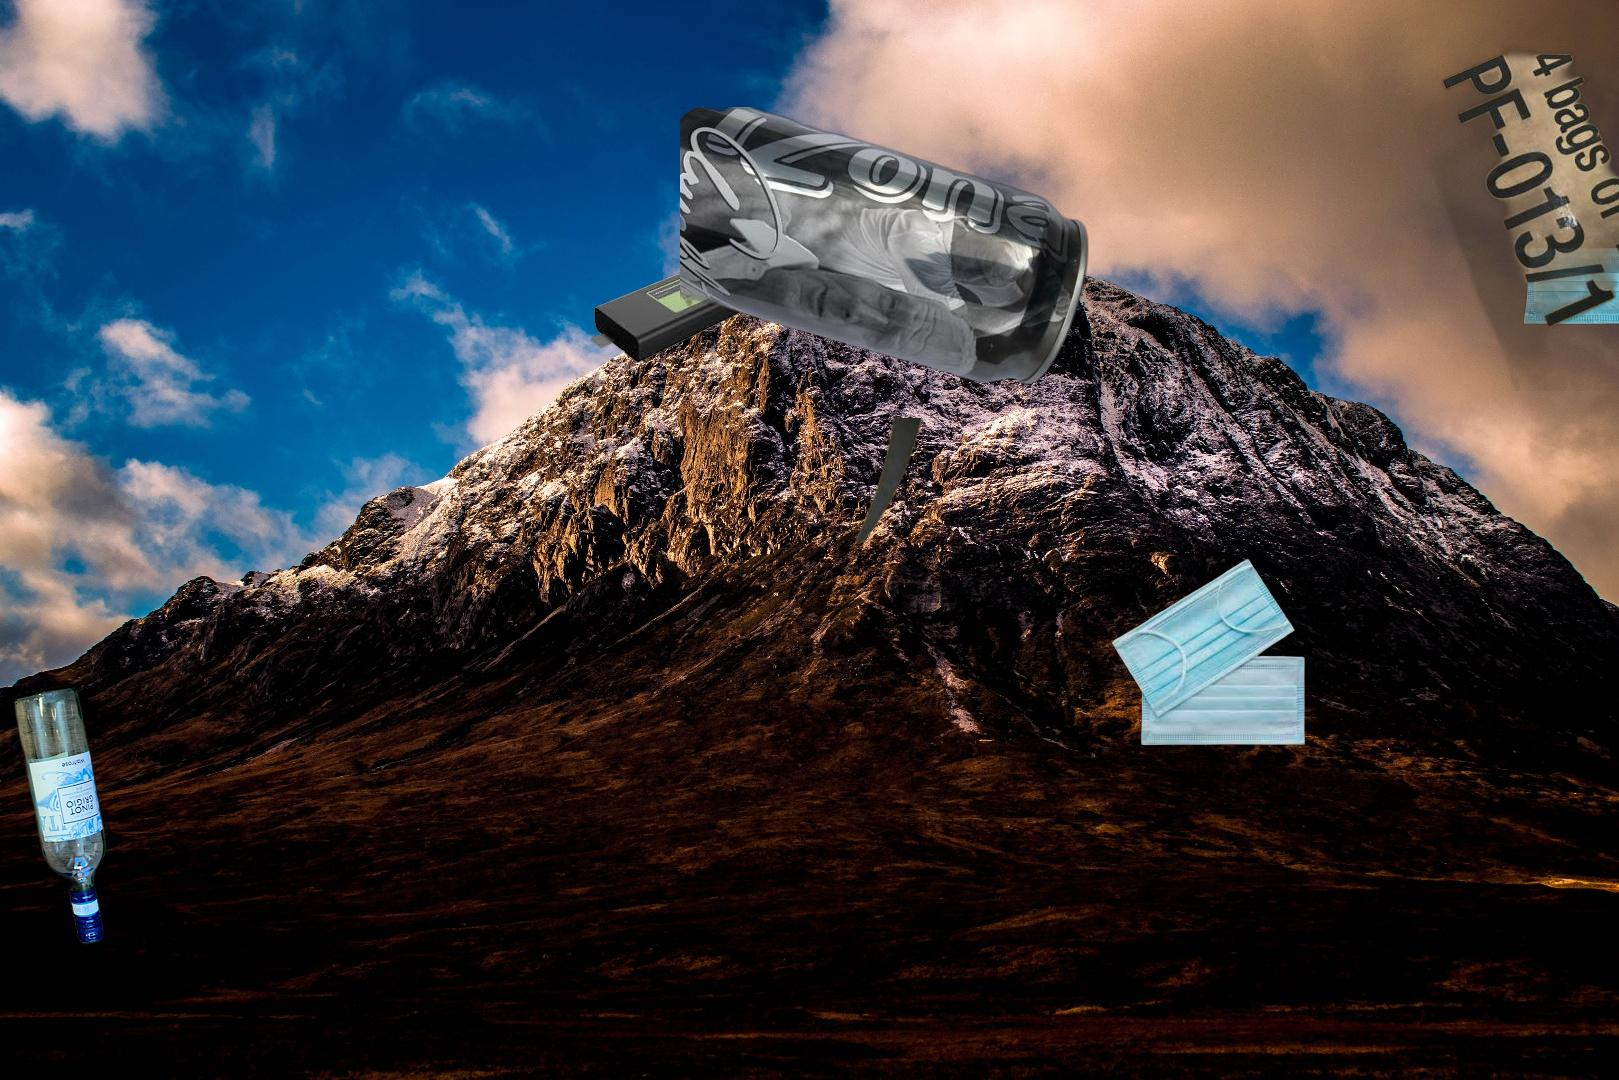battery: (588, 251, 778, 366)
glass: (8, 680, 111, 950)
metal-cans: (680, 107, 1093, 388)
trash: (1109, 557, 1308, 749), (1488, 243, 1619, 327)
trashbox-cardboard: (1403, 7, 1619, 391), (851, 418, 927, 548)
